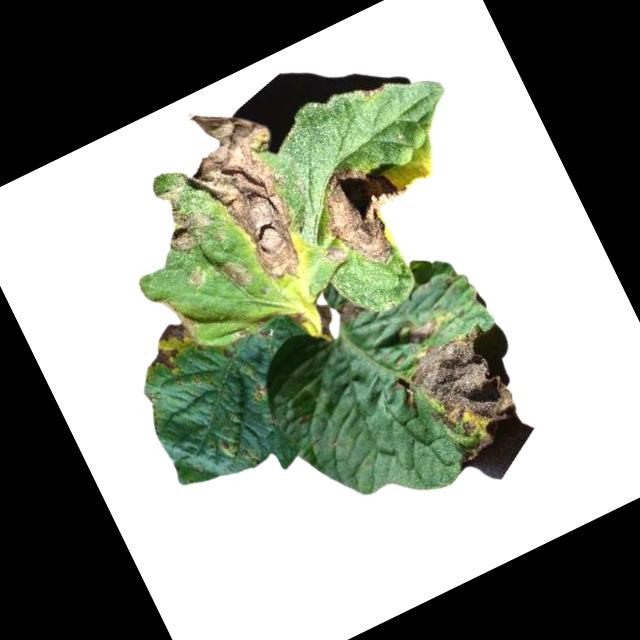Early_blight: (161, 85, 335, 302), (398, 323, 531, 473), (307, 145, 429, 277), (148, 174, 223, 259), (137, 319, 201, 379), (219, 254, 255, 294), (311, 301, 342, 339), (408, 314, 446, 345), (334, 294, 368, 328), (322, 242, 349, 267), (187, 269, 208, 290)
